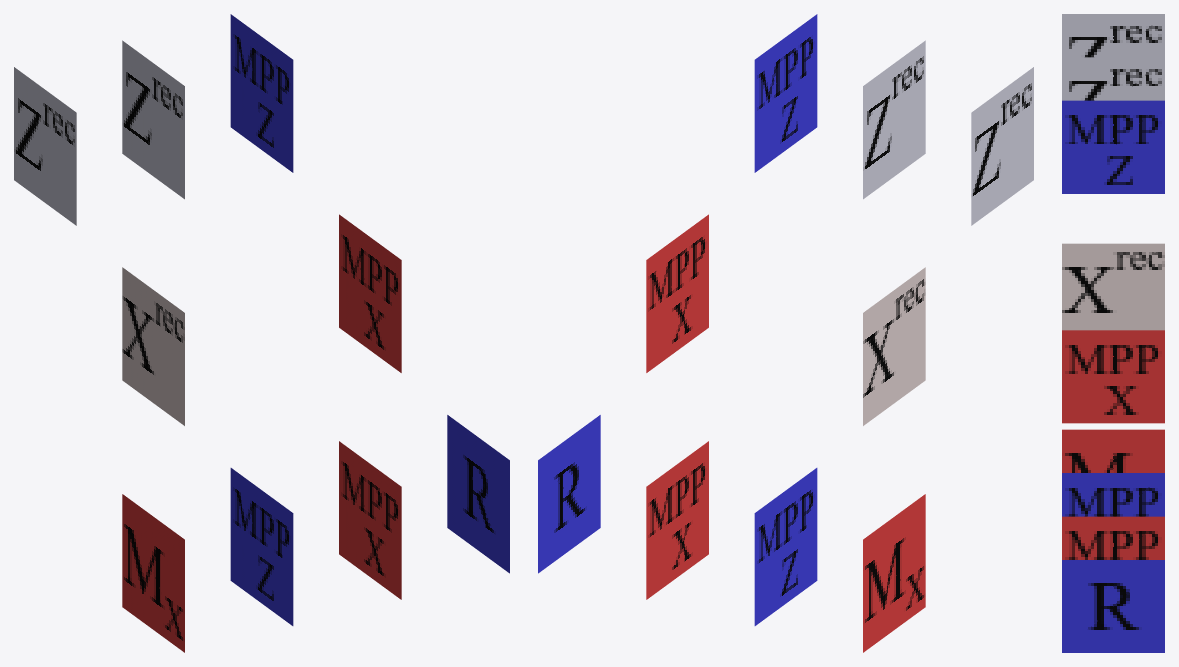
File: lattice_surgery_cnot.gltf
3 views of the same model, side by side, from view 1: azimuth 30°, elevation 25°; view 2: azimuth 150°, elevation 25°; view 3: azimuth 270°, elevation 25° (orthographic). The views are drawn at different scales.
Bounding box in the file's own units: 4 × 5 × 1.
1 material, 1 textured.
